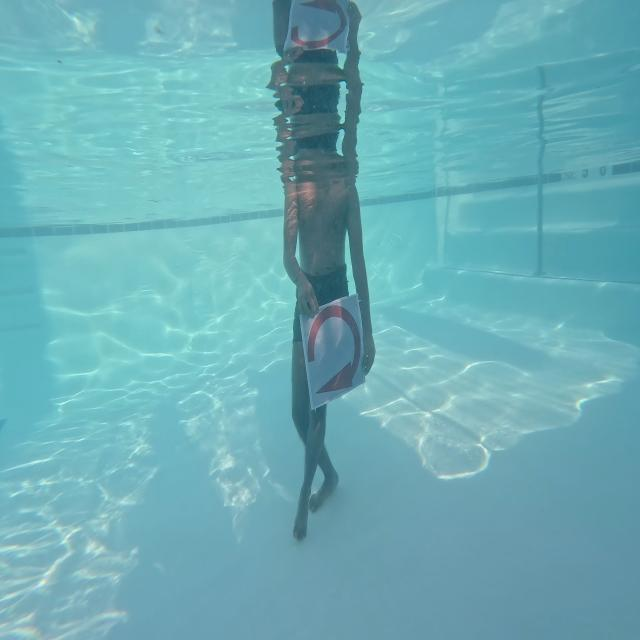red_side: (295, 306, 367, 404)
